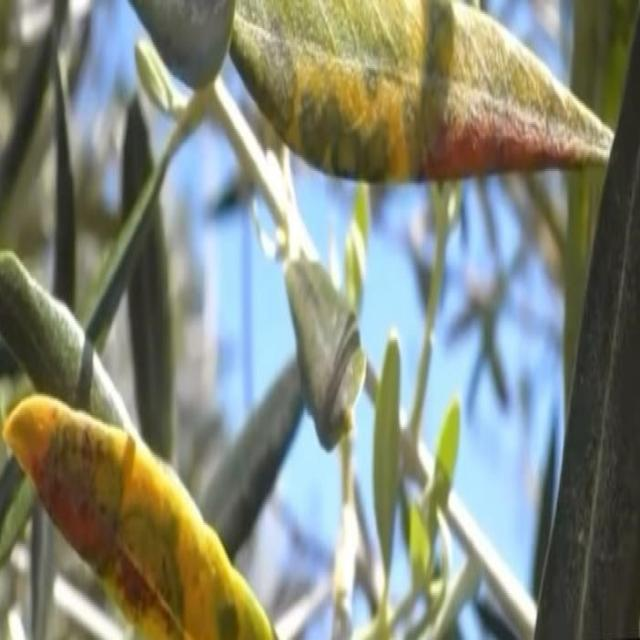OlivePeacockSpot: (230, 0, 616, 180), (5, 394, 276, 638)
